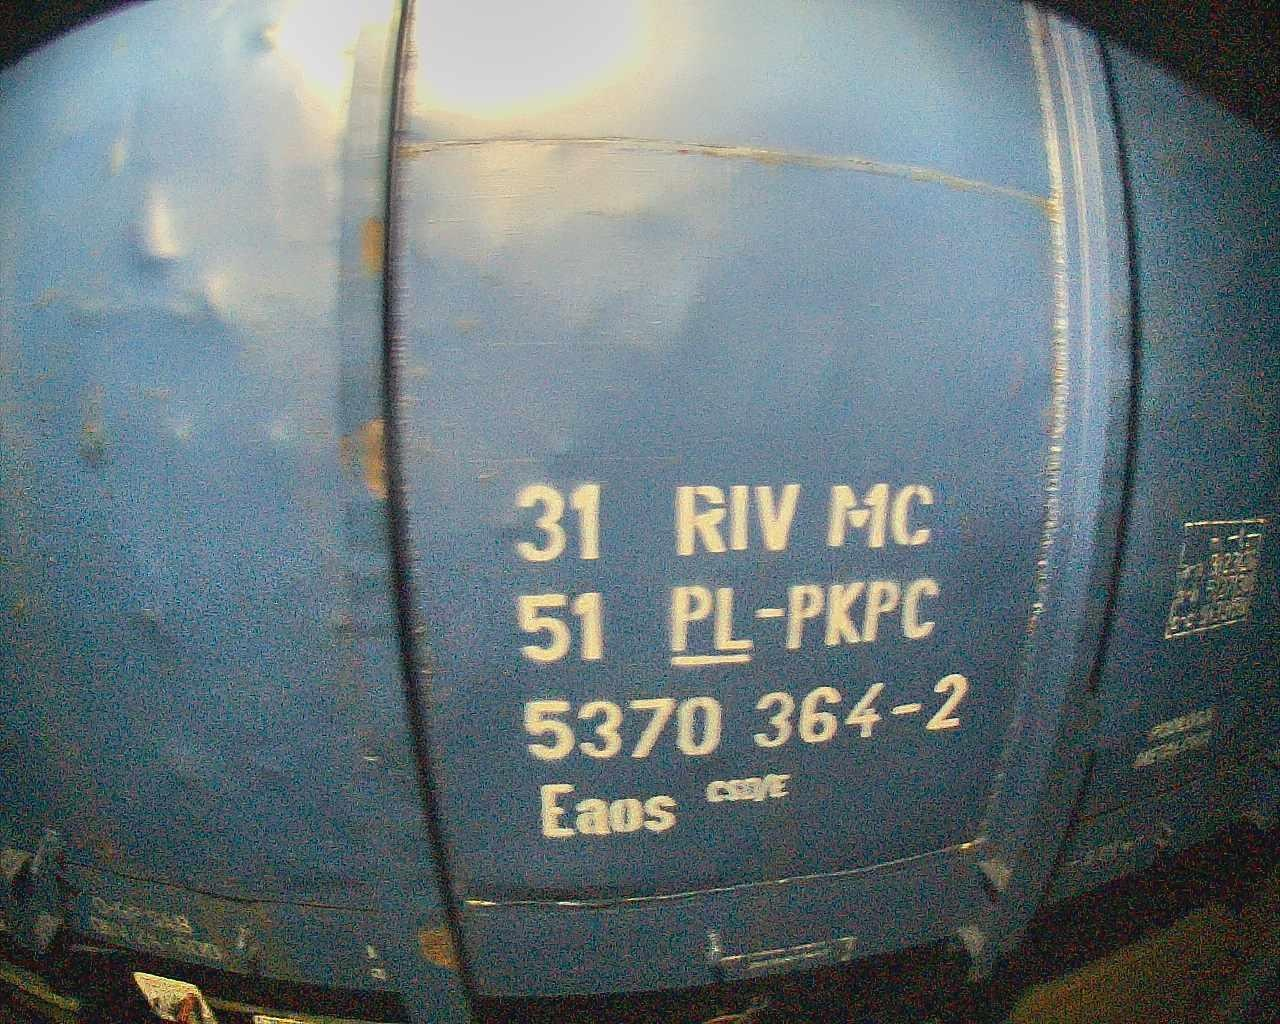UIC: (510, 475, 970, 841)
